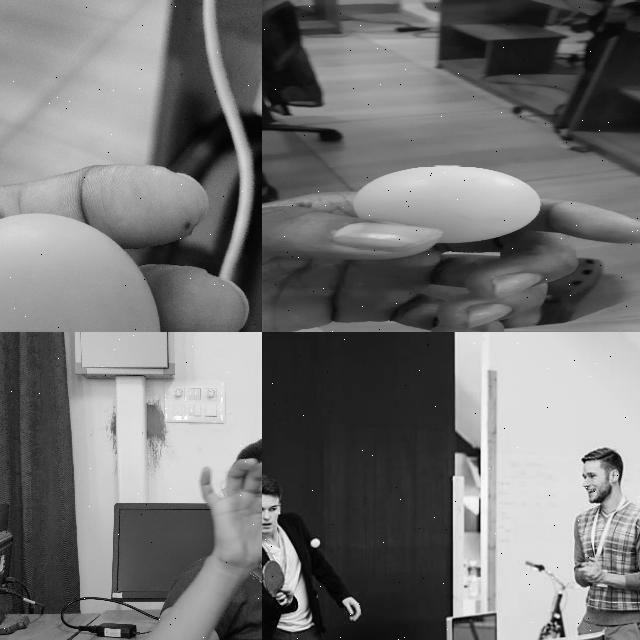ping-pong-ball: (0, 212, 166, 331), (353, 164, 542, 242), (310, 538, 320, 548)
